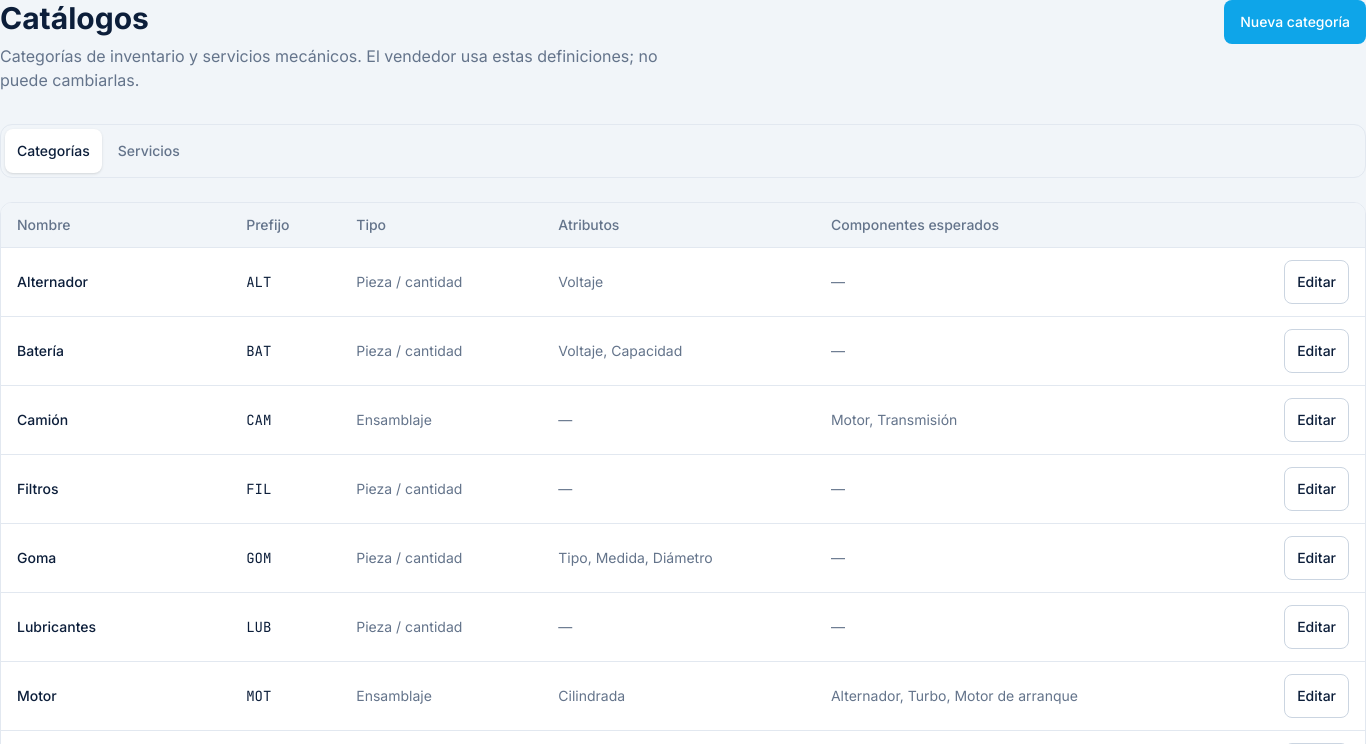
Test case: CatalogsPage › deactivates a mechanical service from the services tab
This screenshot has width=1366, height=744.
expect the text "Motor" is shown: met, box x1=17 y1=687 x2=57 y2=704
Click the tab "Servicios" at (149, 151), box x1=106 y1=129 x2=192 y2=173
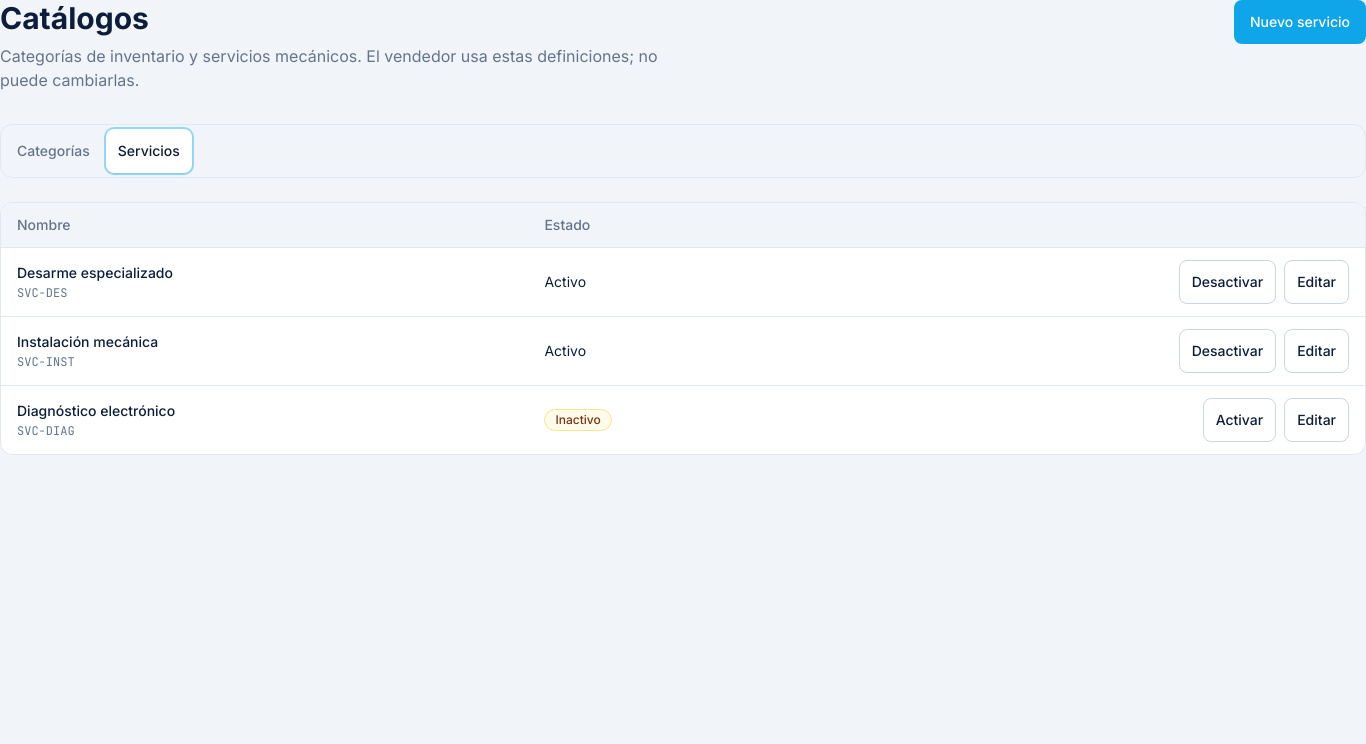
expect the text "Diagnóstico electrónico" is shown: met, box x1=17 y1=402 x2=175 y2=419
expect the text "Instalación mecánica" is shown: met, box x1=17 y1=333 x2=158 y2=350
Click the button "Desactivar" in the row of "Instalación mecánica" at (1227, 351), box x1=1179 y1=329 x2=1276 y2=373
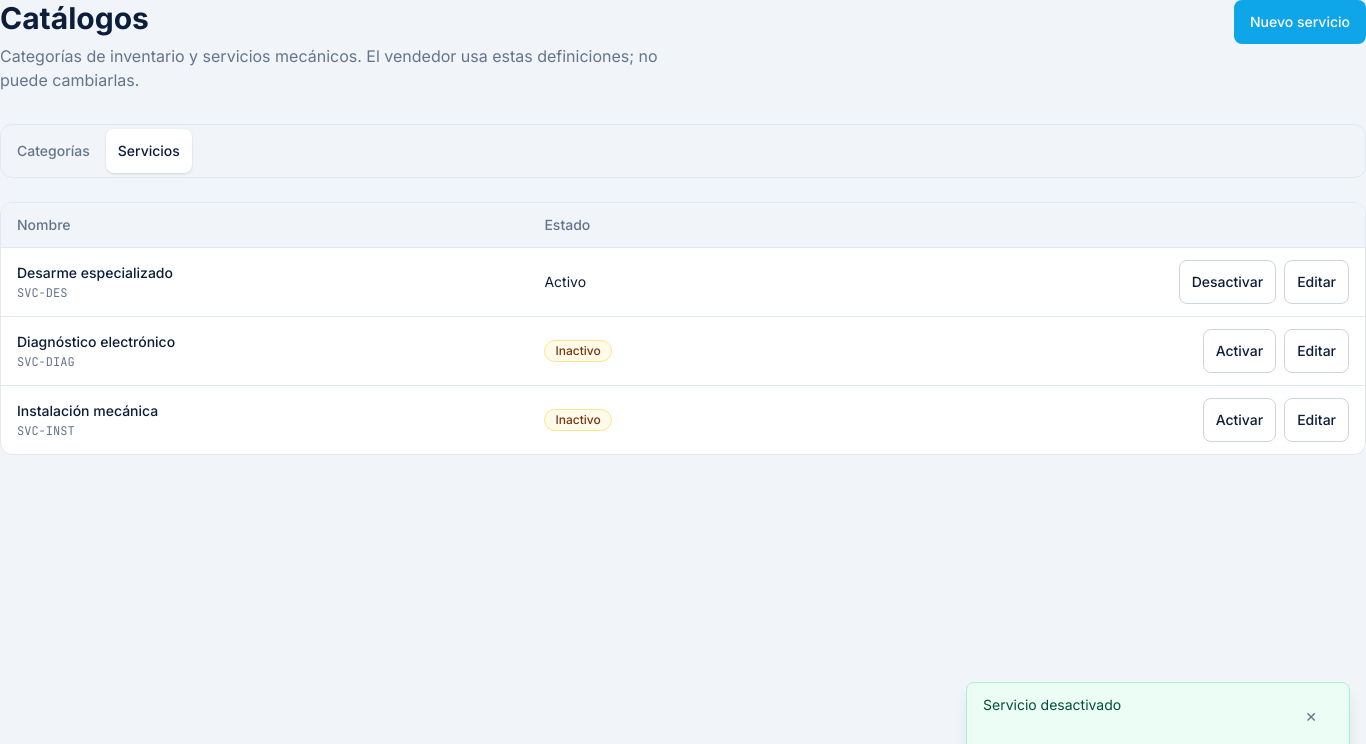
expect the text "Servicio desactivado" is shown: met, box x1=983 y1=696 x2=1121 y2=713
